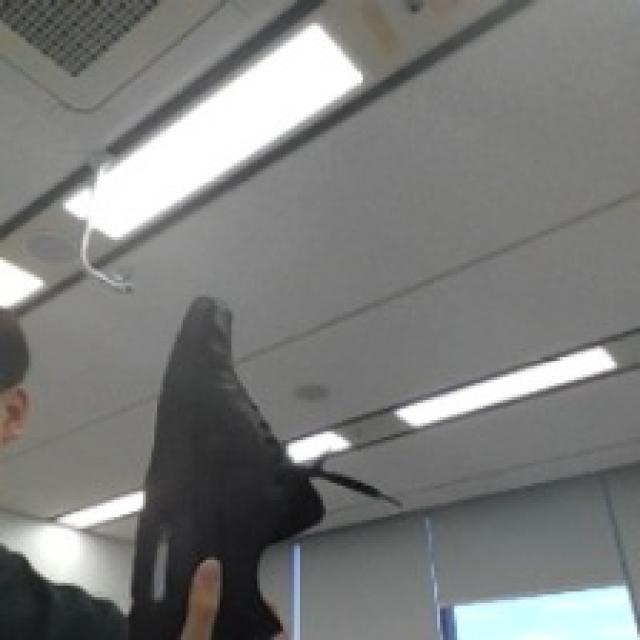shoes: (153, 242, 409, 640)
